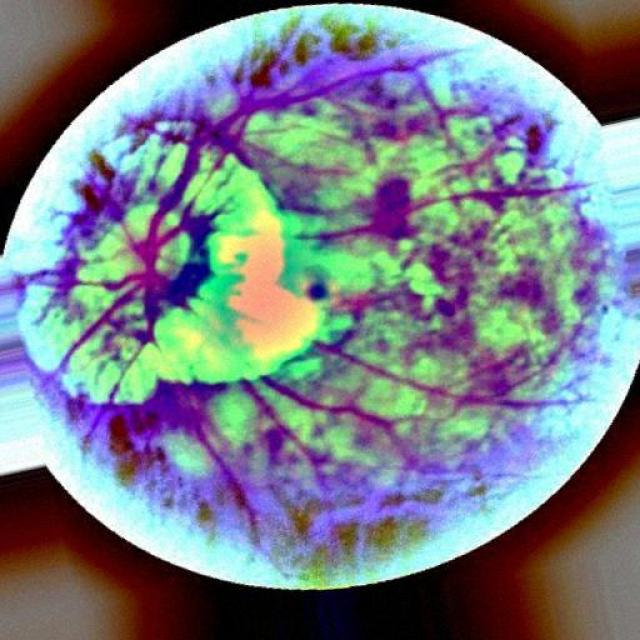Nerves: (141, 66, 417, 267), (250, 379, 420, 453), (62, 282, 140, 373), (238, 384, 314, 472), (61, 272, 146, 295)
Optic Disk: (84, 212, 189, 295)
